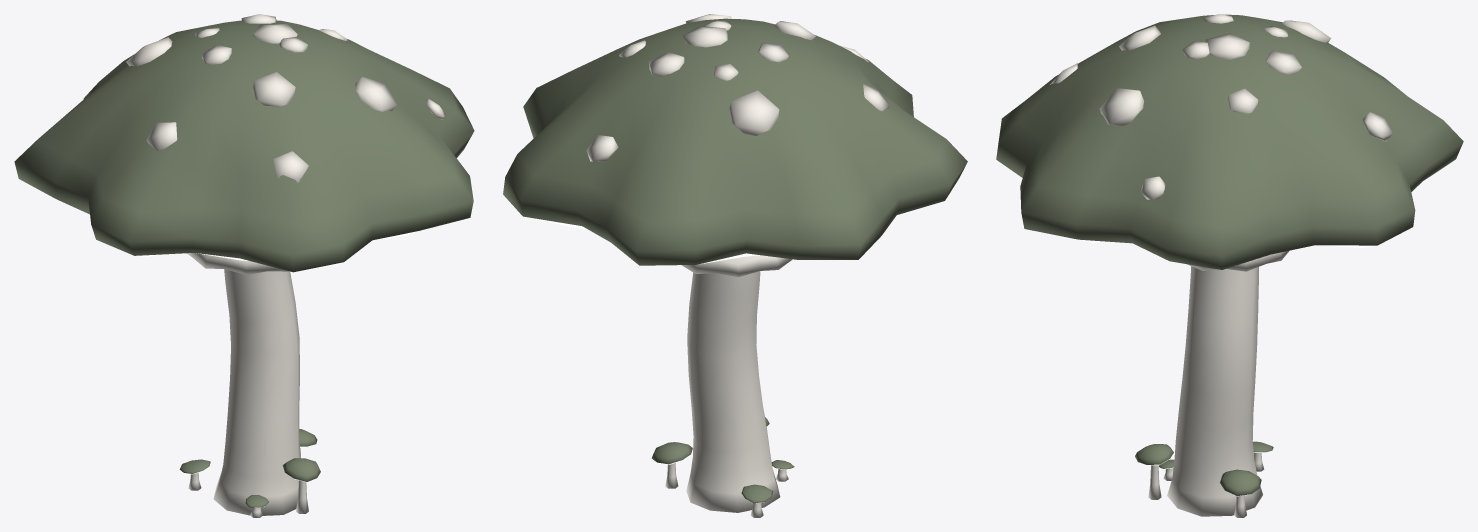
Rendered from mushroom_giant.glb.
3 renders of one model, left to right at view 1: azimuth 30°, elevation 25°; view 2: azimuth 150°, elevation 25°; view 3: azimuth 270°, elevation 25°, orthographic.
Visible parts, largest first — view 1: Body; view 2: Body; view 3: Body.
Boxes of the visible parts, x1,y1,x2,y2 form: Body: [14, 14, 474, 517]; Body: [503, 14, 967, 517]; Body: [996, 14, 1463, 517].
Size of the model in its own units: 10.9 by 12.07 by 10.93.
